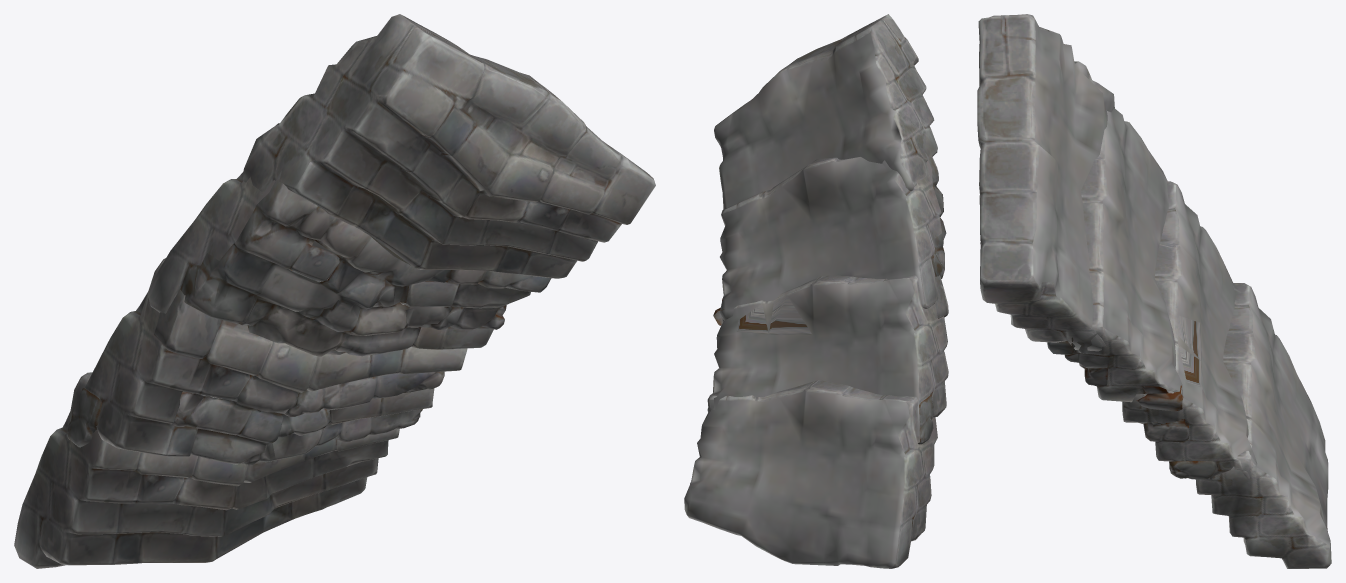
The model's file is HB_Stairs_Vulgrim.fbx.
3 views of the same model, side by side, from view 1: azimuth 30°, elevation 25°; view 2: azimuth 150°, elevation 25°; view 3: azimuth 270°, elevation 25° (orthographic). The views are drawn at different scales.
Visible parts, largest first — view 1: HB_Stairs_Vulgrim; view 2: HB_Stairs_Vulgrim; view 3: HB_Stairs_Vulgrim.
Part boxes in pixels (x1=…): HB_Stairs_Vulgrim: x1=14, y1=14, x2=655, y2=568; HB_Stairs_Vulgrim: x1=684, y1=14, x2=948, y2=568; HB_Stairs_Vulgrim: x1=977, y1=14, x2=1331, y2=568.
Bounding box in the file's own units: 1441 × 2014 × 1190.
